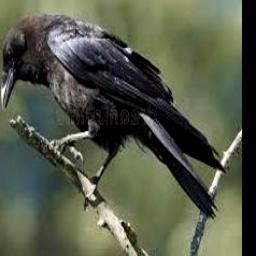Crow: (0, 11, 222, 222)
